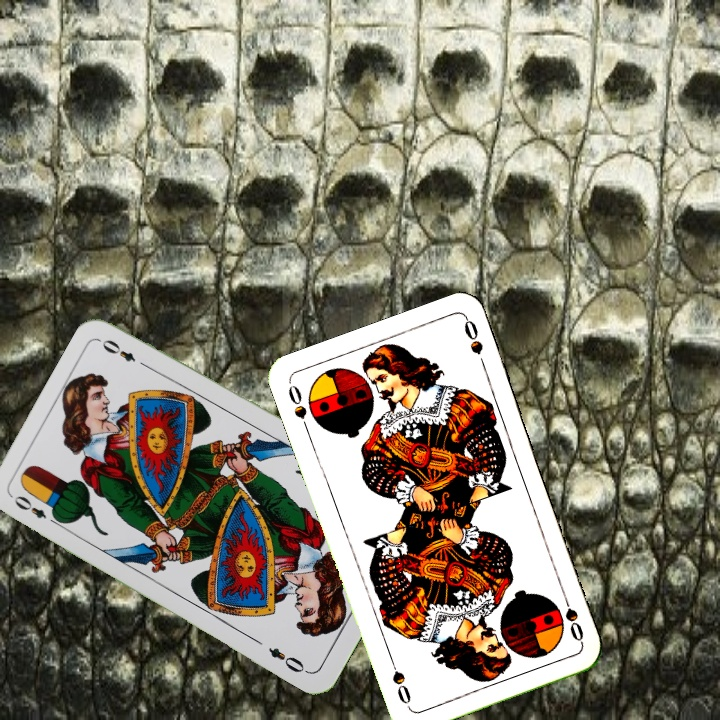EO: (9, 491, 64, 529)
SO: (558, 588, 586, 646), (284, 380, 313, 436)
